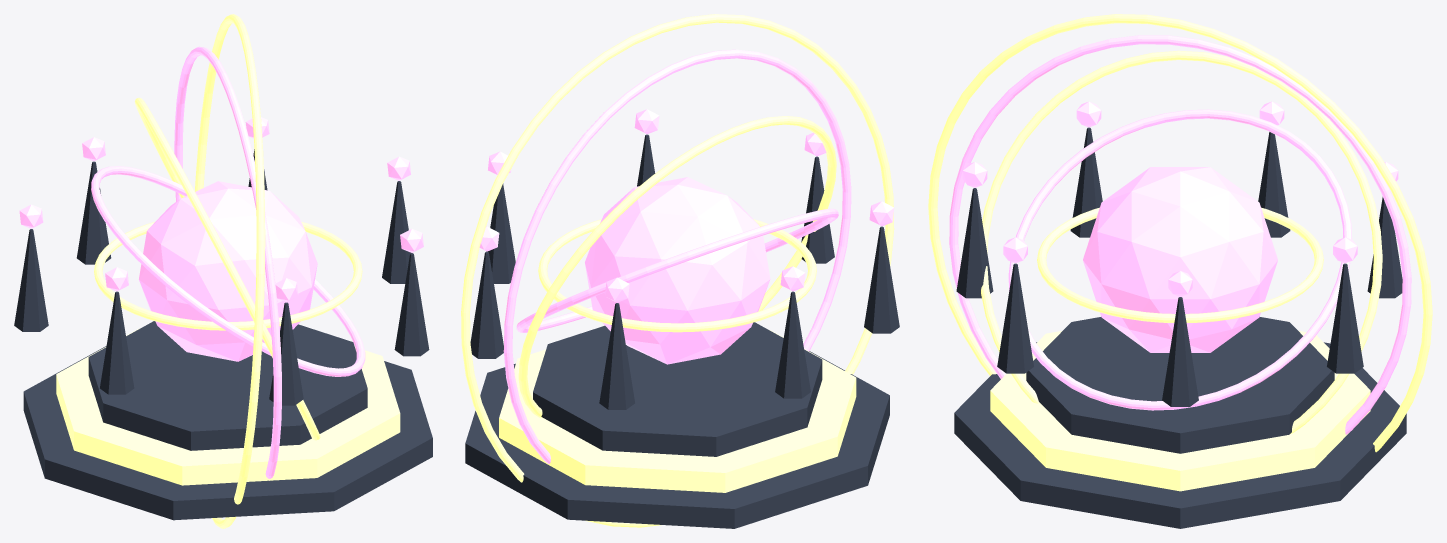
Rendered from gpu-blender-v44.glb.
The picture shows the model from 3 angles, left to right: view 1: azimuth 30°, elevation 25°; view 2: azimuth 150°, elevation 25°; view 3: azimuth 270°, elevation 25°; orthographic projection. The views are drawn at different scales.
Visible parts, largest first — view 1: Cylinder.002, Cylinder, SovereignCore_osint-scout-skill, Cylinder.001, Torus.004, Torus.003, Torus.001, Torus, Torus.002, Cone.006, Cone.004, Cone.003 (+3 smaller); view 2: Cylinder.002, SovereignCore_osint-scout-skill, Cylinder, Cylinder.001, Torus.004, Torus.003, Torus.002, Torus.001, Torus, Cone.004, Cone.003, Cone.002 (+4 smaller); view 3: SovereignCore_osint-scout-skill, Cylinder.002, Cylinder, Cylinder.001, Torus.004, Torus.003, Torus.002, Torus.001, Torus, Cone.001, Cone.006, Cone (+4 smaller).
Part boxes in pixels (x1,y1,x2,y2): Cylinder.002: [88, 321, 367, 450]; Cylinder: [23, 346, 432, 520]; SovereignCore_osint-scout-skill: [139, 181, 317, 361]; Cylinder.001: [56, 328, 400, 485]; Torus.004: [195, 14, 265, 528]; Torus.003: [174, 46, 281, 480]; Torus.001: [91, 166, 365, 376]; Torus: [94, 222, 362, 330]; Torus.002: [135, 97, 320, 440]; Cone.006: [394, 253, 429, 356]; Cone.004: [100, 291, 134, 394]; Cone.003: [14, 229, 48, 331]; Cylinder.002: [533, 322, 822, 456]; SovereignCore_osint-scout-skill: [585, 177, 770, 364]; Cylinder: [465, 351, 889, 528]; Cylinder.001: [499, 330, 856, 492]; Torus.004: [461, 14, 894, 527]; Torus.003: [503, 49, 851, 463]; Torus.002: [518, 116, 836, 417]; Torus.001: [516, 208, 838, 332]; Torus: [538, 219, 816, 332]; Cone.004: [864, 226, 899, 333]; Cone.003: [775, 291, 810, 398]; Cone.002: [599, 303, 634, 409]; SovereignCore_osint-scout-skill: [1083, 167, 1277, 352]; Cylinder.002: [1026, 317, 1334, 453]; Cylinder: [954, 342, 1406, 528]; Cylinder.001: [990, 330, 1370, 491]; Torus.004: [928, 14, 1432, 452]; Torus.003: [949, 35, 1411, 434]; Torus.002: [981, 50, 1382, 433]; Torus.001: [1008, 109, 1352, 410]; Torus: [1037, 207, 1323, 322]; Cone.001: [1327, 263, 1363, 373]; Cone.006: [997, 263, 1033, 373]; Cone: [1162, 297, 1198, 406].
Size of the model in its own units: 4.41 by 5.33 by 4.9.
